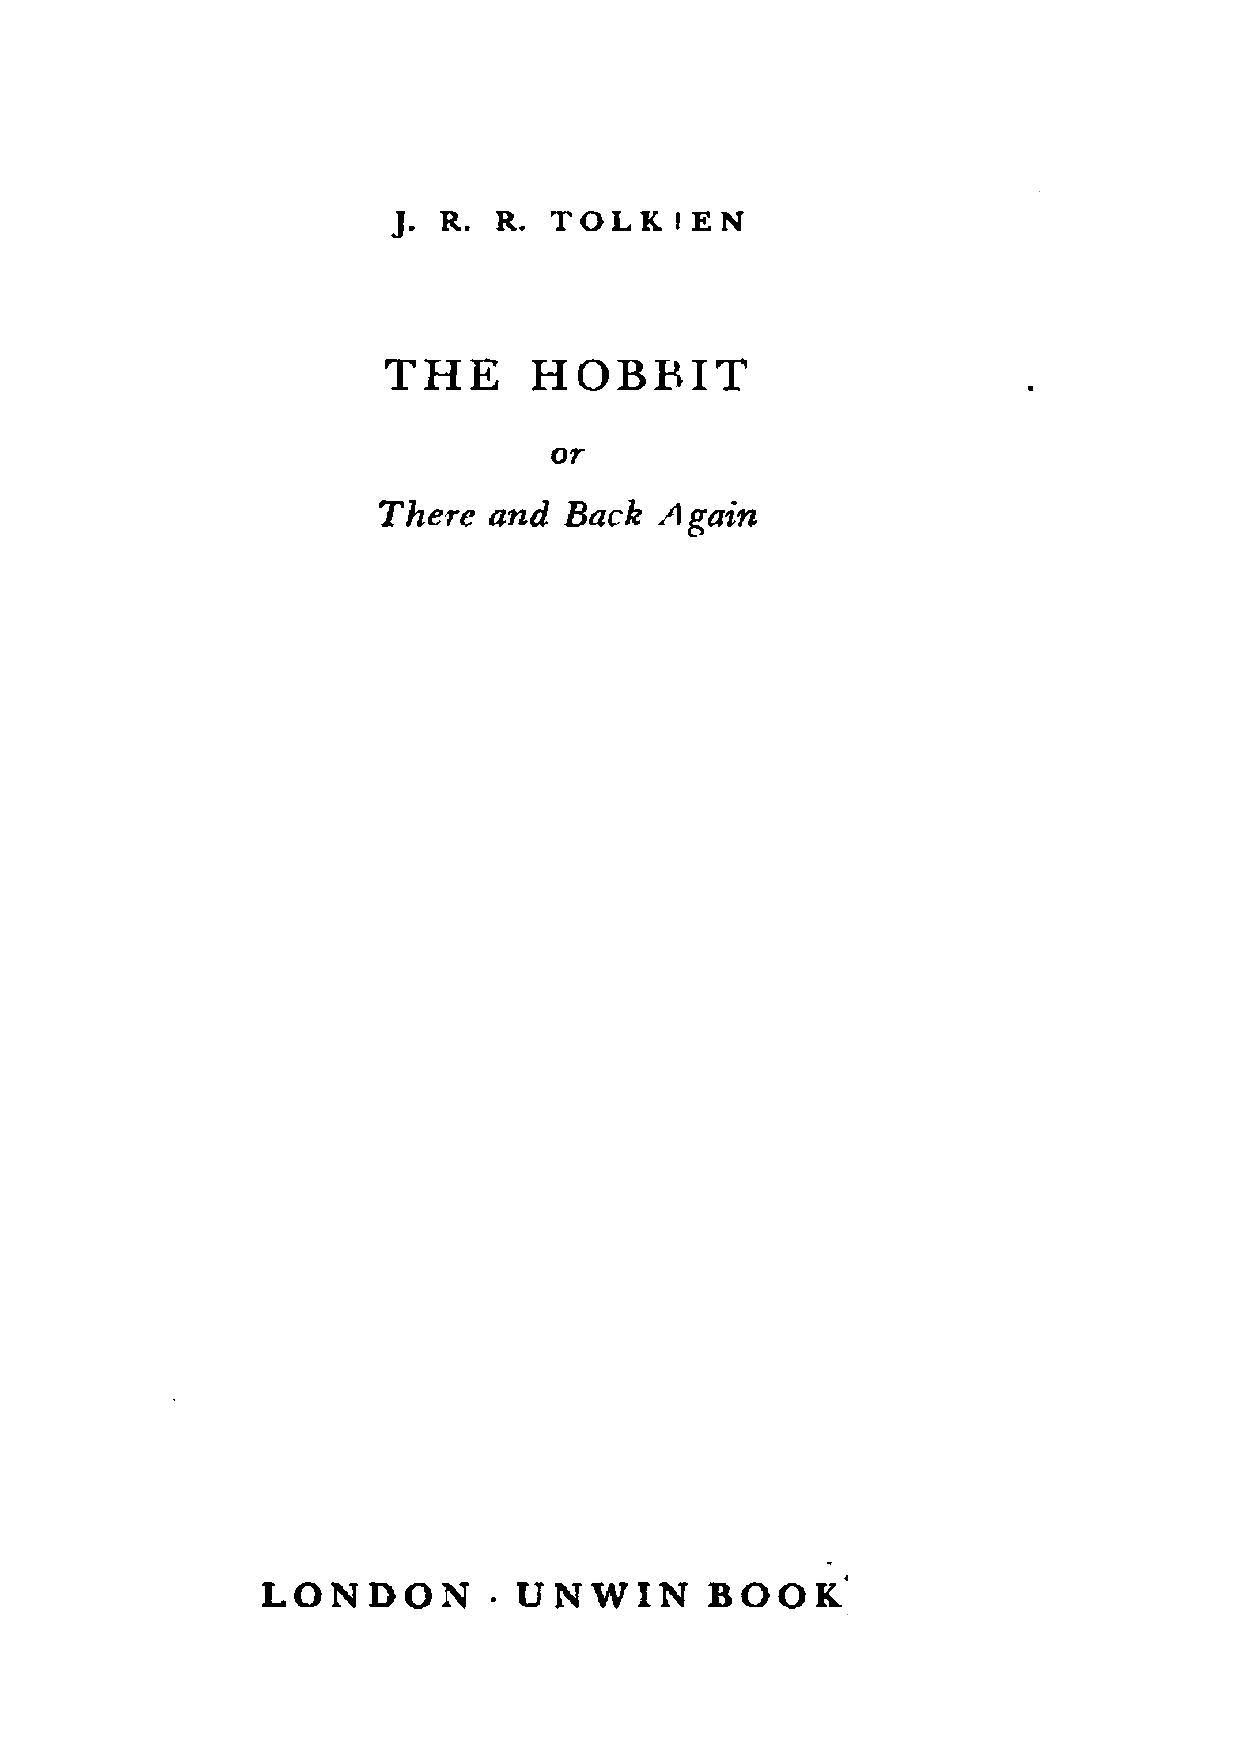author: (391, 204, 746, 242)
title: (376, 357, 760, 538)
